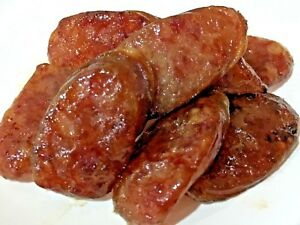chinese_sausage: (129, 100, 233, 225), (47, 57, 136, 192), (117, 15, 234, 97), (197, 94, 289, 189), (9, 70, 68, 177), (41, 8, 139, 67), (234, 40, 288, 93)
